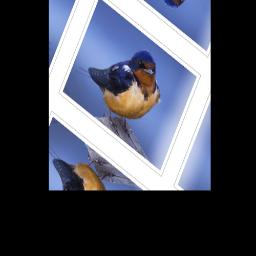Swallow: (66, 9, 174, 153)
